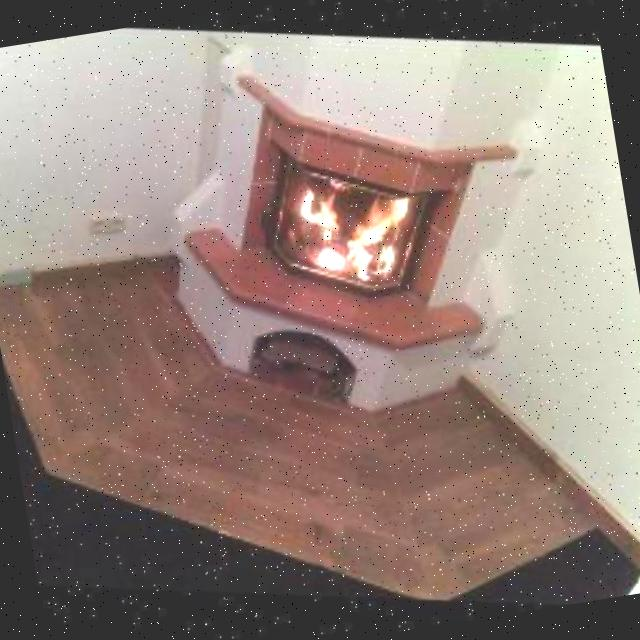fire: (288, 158, 429, 292)
